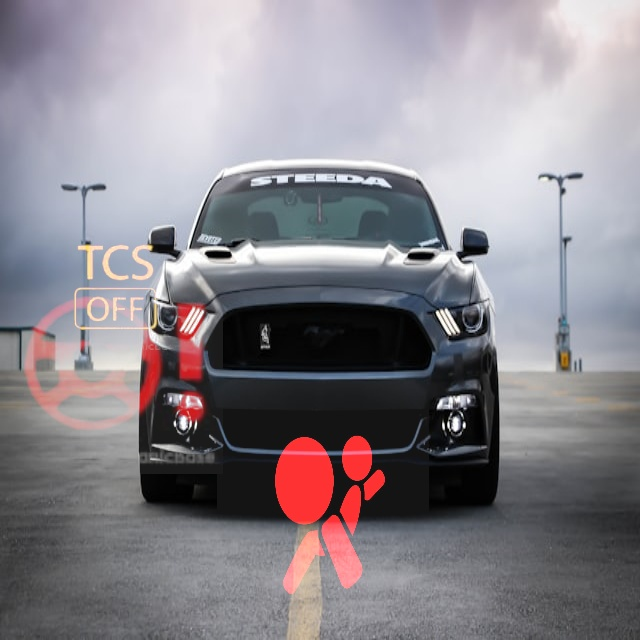symbol: (6, 257, 223, 474), (217, 404, 429, 616), (241, 5, 444, 208), (49, 221, 185, 357)
